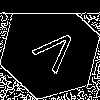V: (25, 25, 82, 81)
